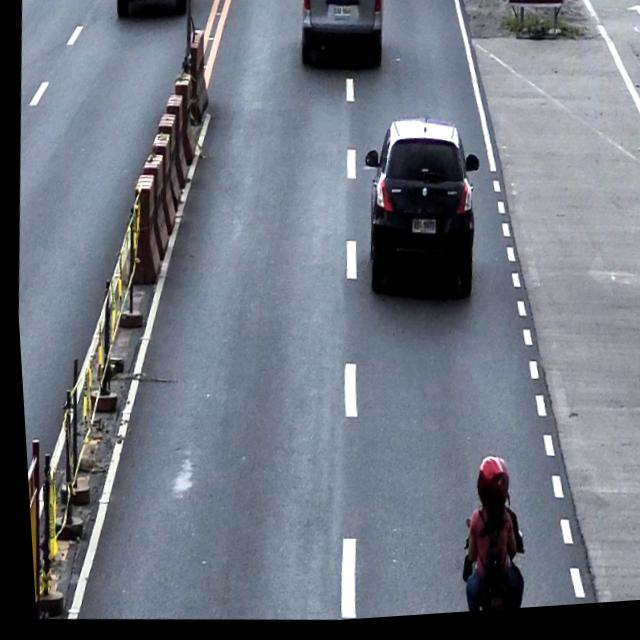Car: (349, 114, 485, 311), (294, 0, 386, 77), (113, 0, 201, 25)
License-Plate: (406, 219, 434, 242), (331, 8, 351, 23)
Motorcycle: (449, 514, 524, 618)
